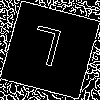L: (24, 24, 65, 76)
